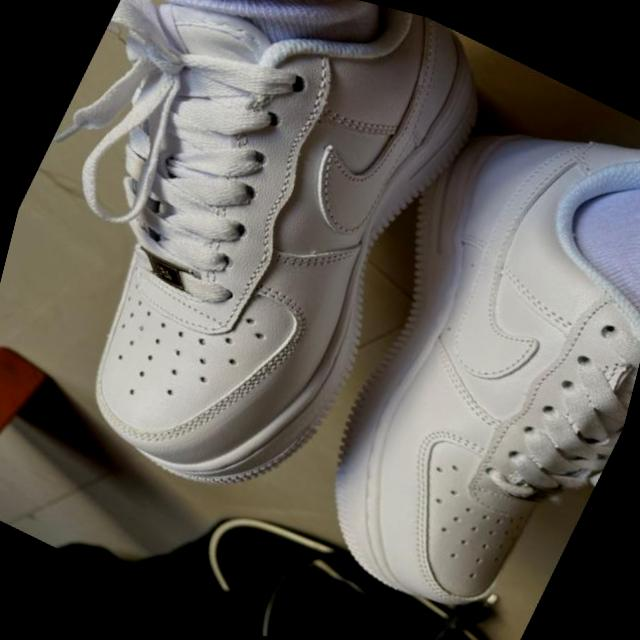nike_original_airforce: (0, 0, 517, 555), (243, 19, 640, 640)
